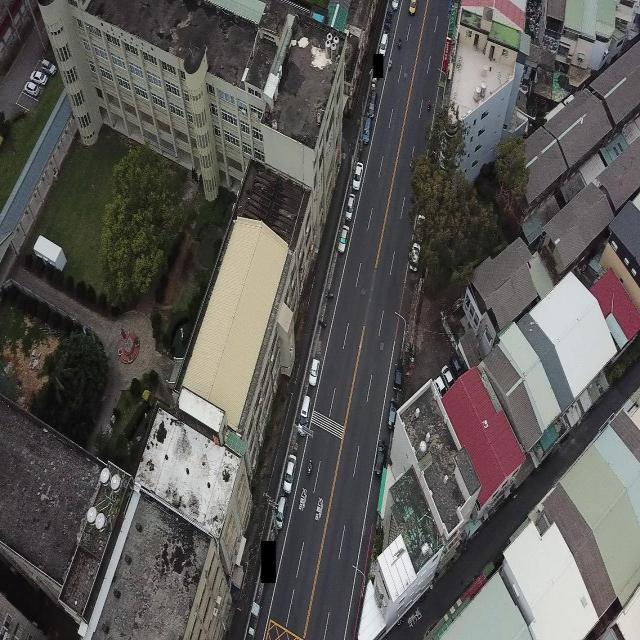bike: (307, 458, 312, 475)
car: (282, 454, 297, 494), (273, 496, 287, 529), (374, 439, 386, 477), (408, 242, 421, 272), (387, 398, 398, 430), (308, 358, 320, 386), (300, 393, 310, 425), (352, 161, 363, 190), (345, 192, 355, 221), (393, 363, 403, 391), (338, 225, 348, 253), (368, 90, 376, 117), (379, 32, 388, 56), (364, 116, 370, 146), (408, 0, 416, 15), (388, 55, 392, 69), (427, 97, 431, 111)
